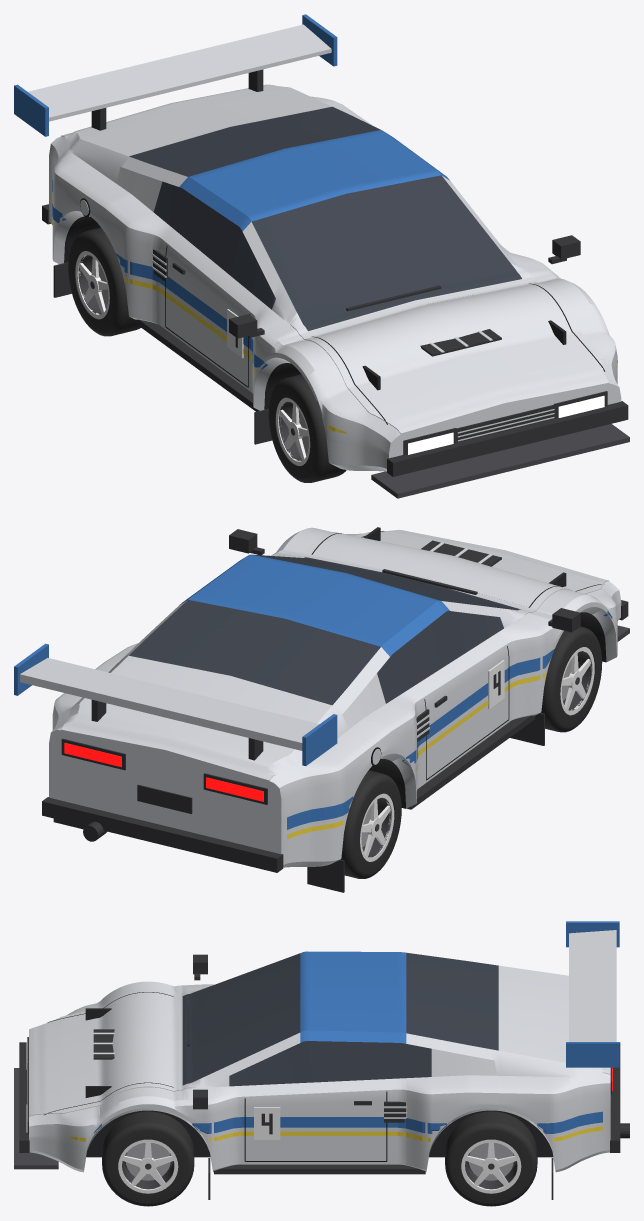
The model's file is wedge-mid-engine.glb.
3 views of the same model, one above another, from view 1: azimuth 30°, elevation 25°; view 2: azimuth 150°, elevation 25°; view 3: azimuth 270°, elevation 25° (orthographic). The views are drawn at different scales.
Visible parts, largest first — view 1: Body, Wheel_FR, Wheel_RR; view 2: Body, Wheel_RR, Wheel_FR; view 3: Body, Wheel_RL, Wheel_FL.
Boxes of the visible parts, box(x1,y1,x2,y2) form: Body: box(14, 14, 629, 498); Wheel_FR: box(268, 374, 346, 482); Wheel_RR: box(68, 227, 140, 336); Body: box(14, 527, 629, 892); Wheel_RR: box(340, 770, 401, 878); Wheel_FR: box(541, 626, 602, 732); Body: box(14, 921, 629, 1199); Wheel_RL: box(445, 1111, 537, 1206); Wheel_FL: box(102, 1111, 194, 1206).
Bounding box in the file's own units: 2.27 × 1.23 × 4.13.
